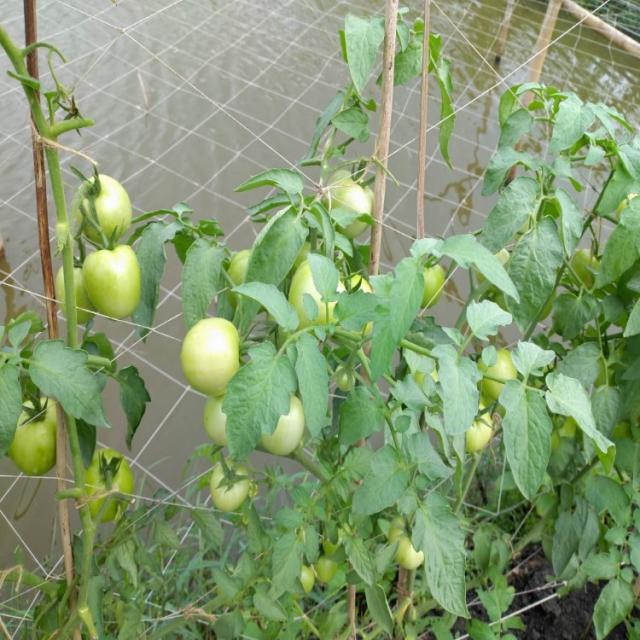tomato: (292, 259, 382, 333), (179, 316, 246, 395), (79, 446, 139, 523), (78, 167, 137, 244), (319, 168, 382, 240), (87, 248, 146, 323), (18, 394, 60, 478), (264, 395, 304, 455), (214, 461, 256, 513), (478, 350, 521, 399), (460, 407, 497, 461), (52, 260, 82, 325), (390, 526, 424, 573), (226, 250, 258, 297), (574, 248, 608, 292), (296, 557, 344, 586), (423, 254, 445, 313), (207, 399, 233, 447), (323, 521, 357, 554), (335, 365, 359, 393)
